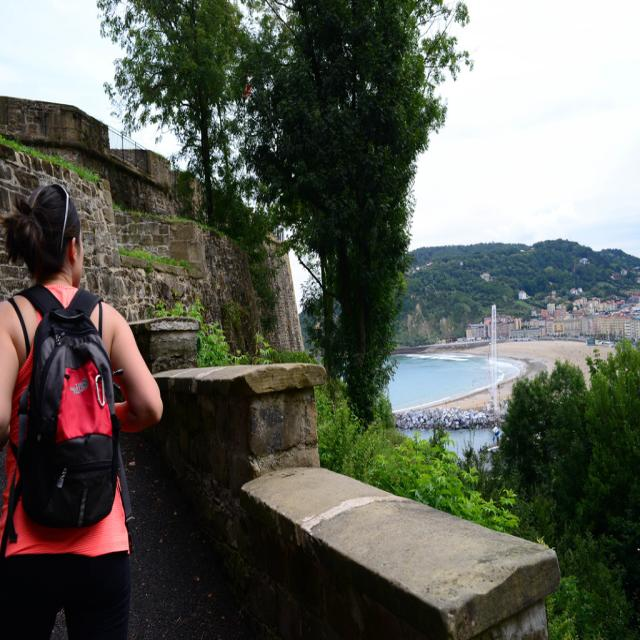backpack: (11, 284, 117, 526)
